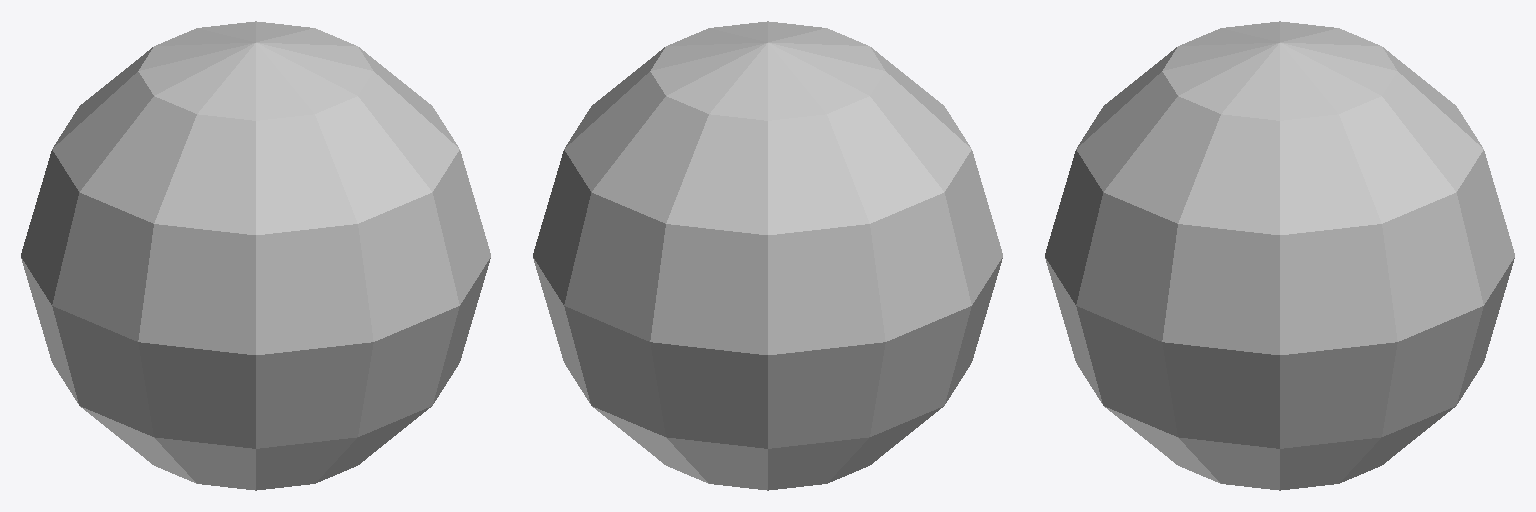
File: origin.obj
The picture shows the model from 3 angles: view 1: azimuth 30°, elevation 25°; view 2: azimuth 150°, elevation 25°; view 3: azimuth 270°, elevation 25°; orthographic projection.
Visible parts, largest first — view 1: origin.obj; view 2: origin.obj; view 3: origin.obj.
Part boxes in pixels (bbox=[...]): origin.obj: bbox=[21, 21, 490, 490]; origin.obj: bbox=[533, 21, 1002, 490]; origin.obj: bbox=[1045, 21, 1514, 490].
Size of the model in its own units: 0.25 by 0.25 by 0.25.